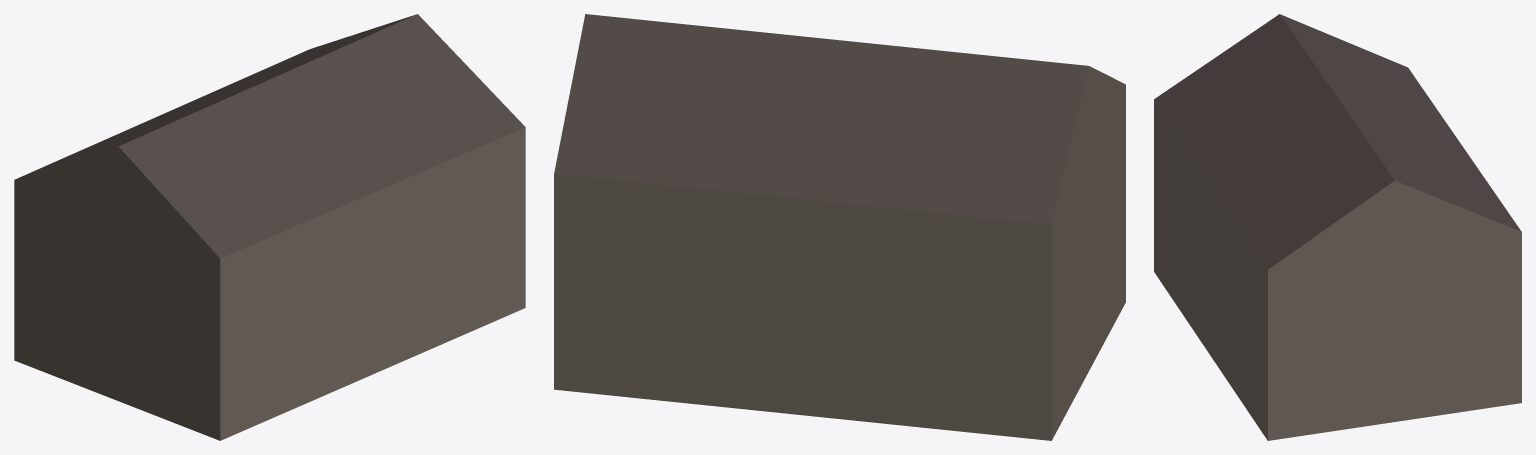
3 renders of one model, left to right at view 1: azimuth 30°, elevation 25°; view 2: azimuth 150°, elevation 25°; view 3: azimuth 270°, elevation 25°, orthographic. The views are drawn at different scales.
Parts seen in each view (by area): view 1: HP-w1198840830; view 2: HP-w1198840830; view 3: HP-w1198840830.
Boxes of the visible parts, x1,y1,x2,y2 form: HP-w1198840830: (14, 14, 525, 440); HP-w1198840830: (554, 14, 1125, 440); HP-w1198840830: (1154, 14, 1521, 440).
Bounding box in the file's own units: 15.22 × 8.47 × 11.69.
